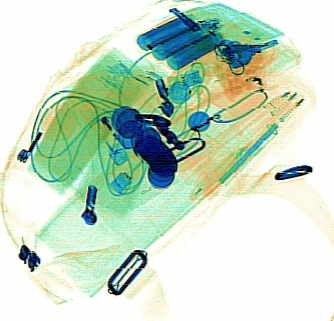lighter: (76, 91, 130, 166)
powerbank: (131, 11, 229, 69)
